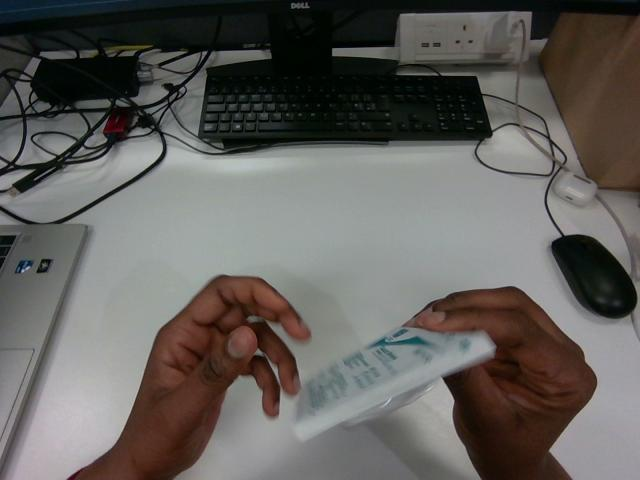gauze: (294, 327, 494, 440)
